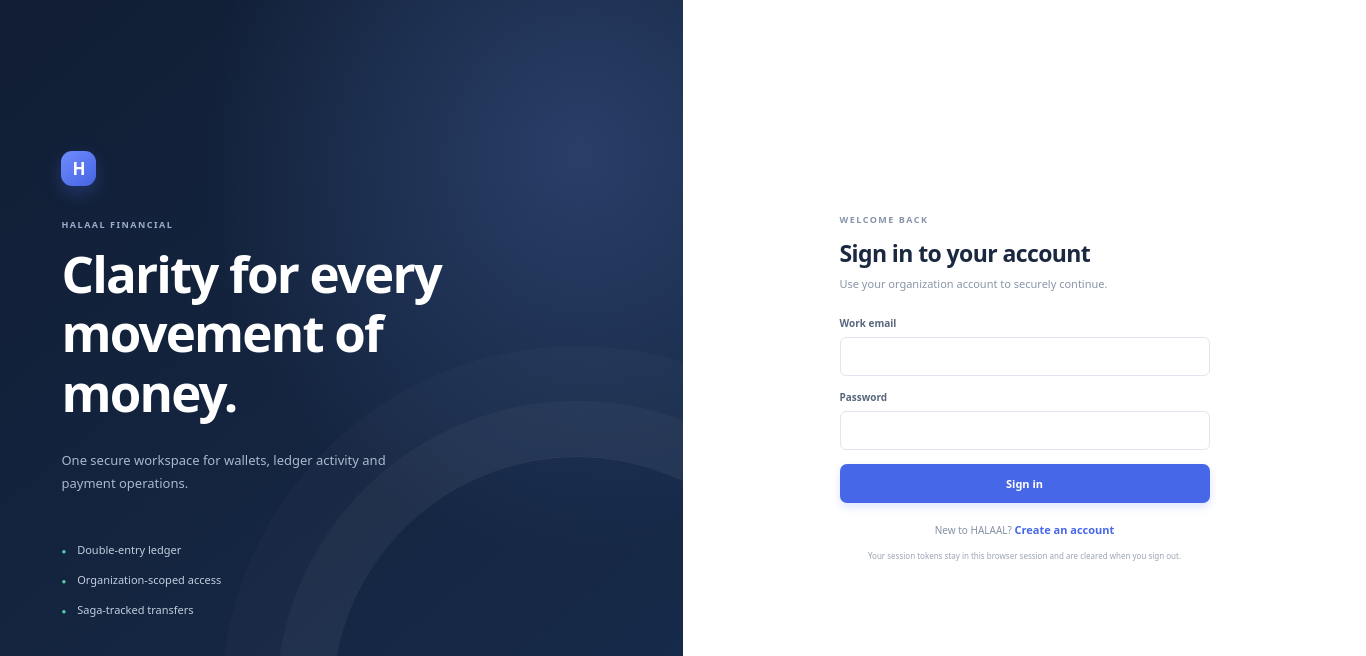
wallet dashboard › opens the selected wallet ledger from the wallets page
The width and height of the screenshot is (1366, 656).
In the field labelled "Work email": [1024, 356] box top-left (840, 337), bottom-right (1210, 376), type "admin@example.test"
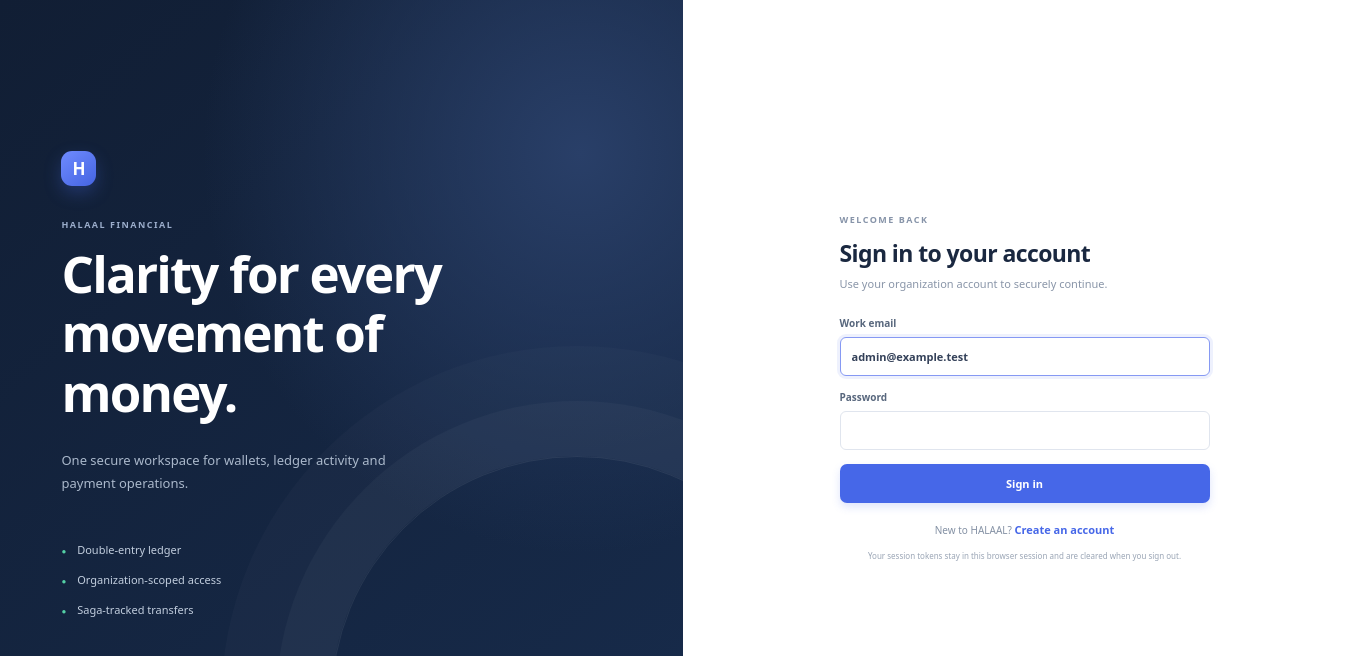
In the password field labelled "Password": [1024, 430] box top-left (840, 411), bottom-right (1210, 450), type "correct-horse"
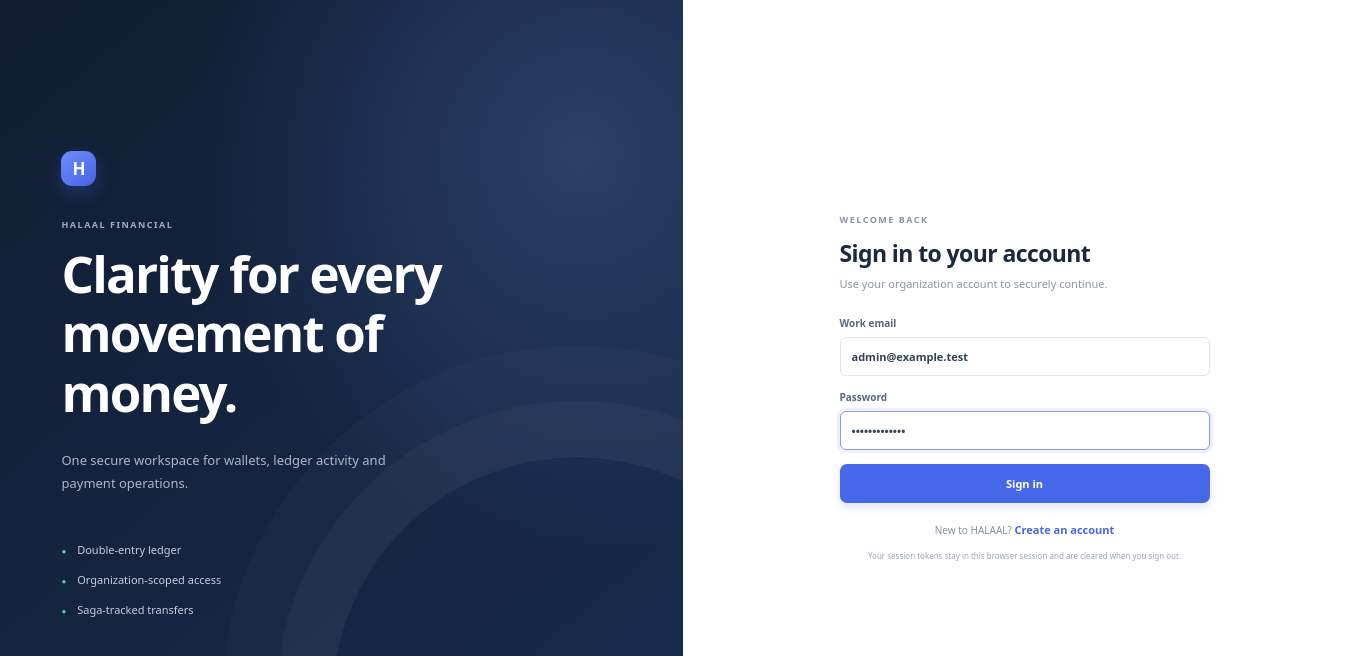
Click the button "Sign in": [1024, 483] box top-left (840, 464), bottom-right (1210, 503)
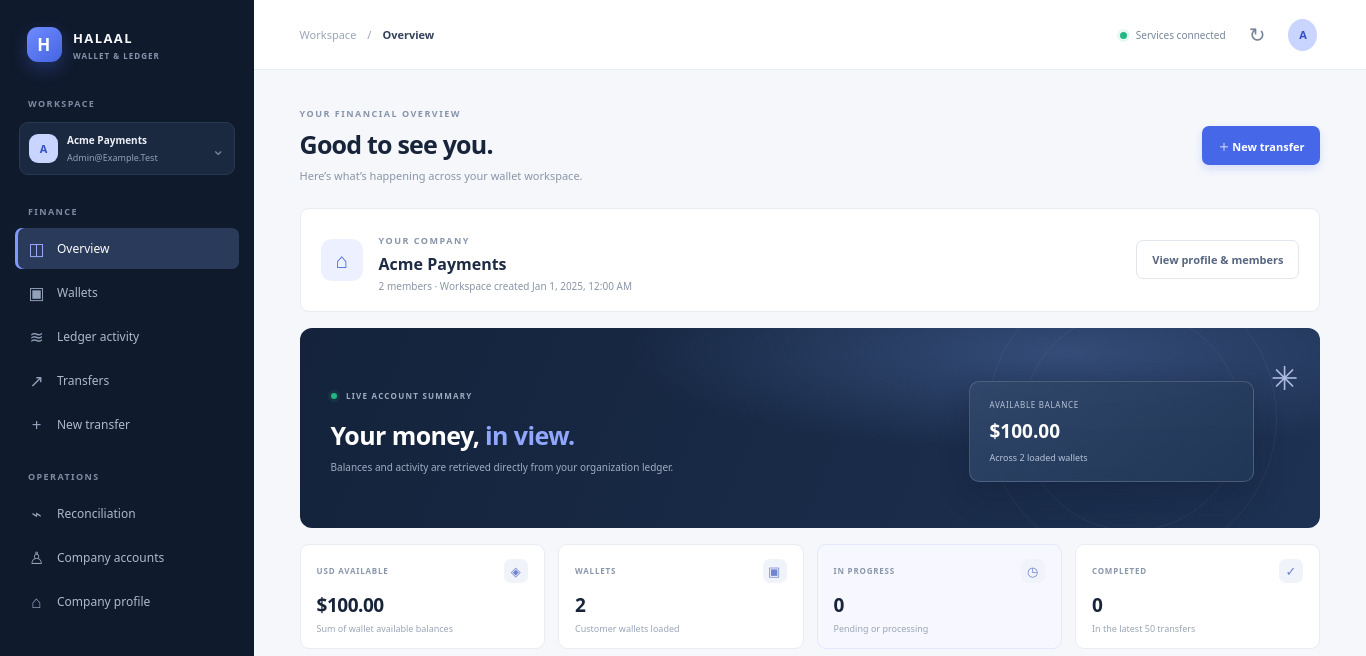
Expected: the heading "Good to see you." is shown, top-left (300, 127), bottom-right (493, 161)
Click the button "▣ Wallets": [127, 292] box top-left (15, 272), bottom-right (239, 313)
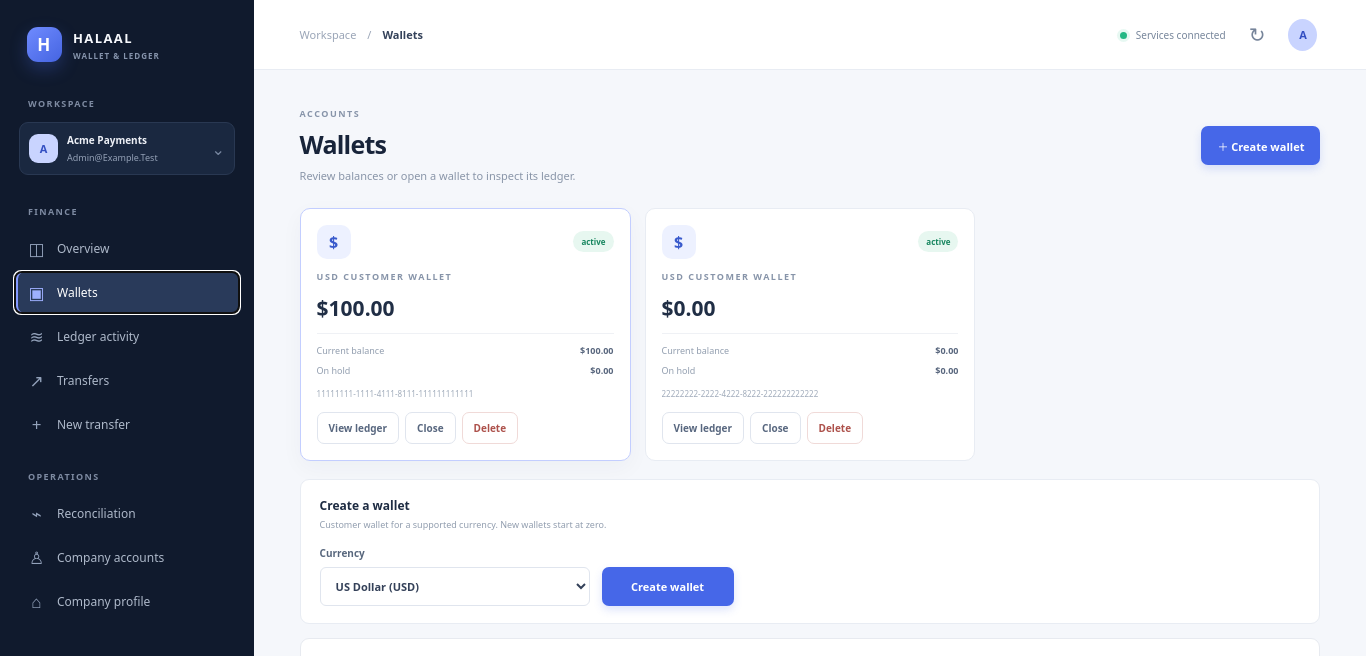
Expected: the heading "Wallets" is shown, top-left (300, 127), bottom-right (386, 161)
Click the button "View ledger" below "11111111-1111-4111-8111-111111111111": [358, 428] box top-left (317, 412), bottom-right (399, 444)
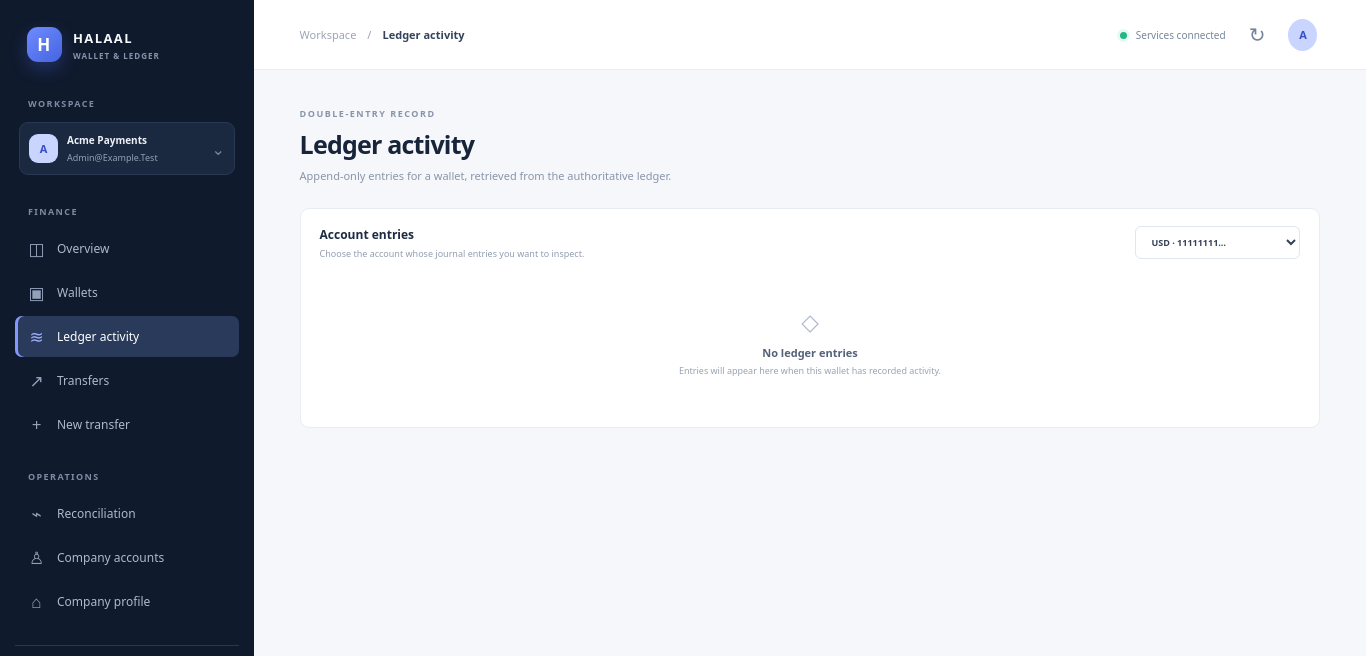
Expected: the heading "Ledger activity" is shown, top-left (300, 127), bottom-right (474, 161)
Expected: the heading "Account entries" is shown, top-left (320, 226), bottom-right (414, 243)
